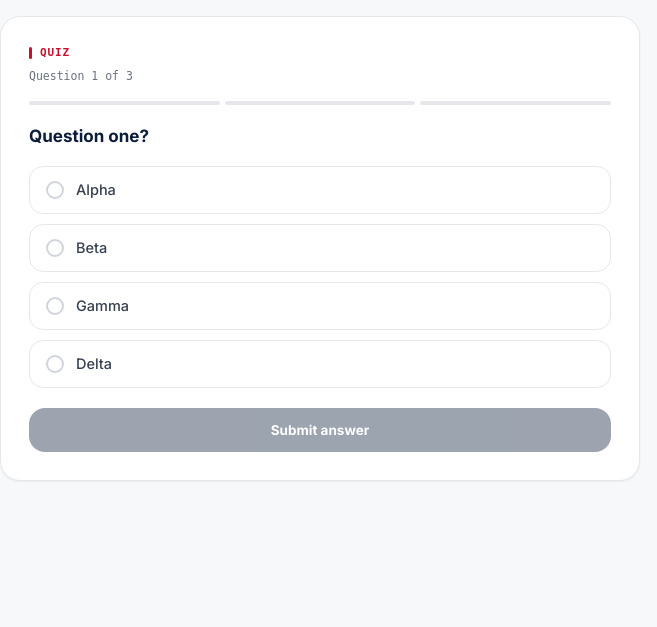
it: QuizWidget server-graded mode (t_79a92b83) › renders wrong-answer feedback from the response, not the user's selection
The image size is (657, 627).
Step 1. Click the radio button labelled "Beta" → (92, 248), box [29,224,611,272]
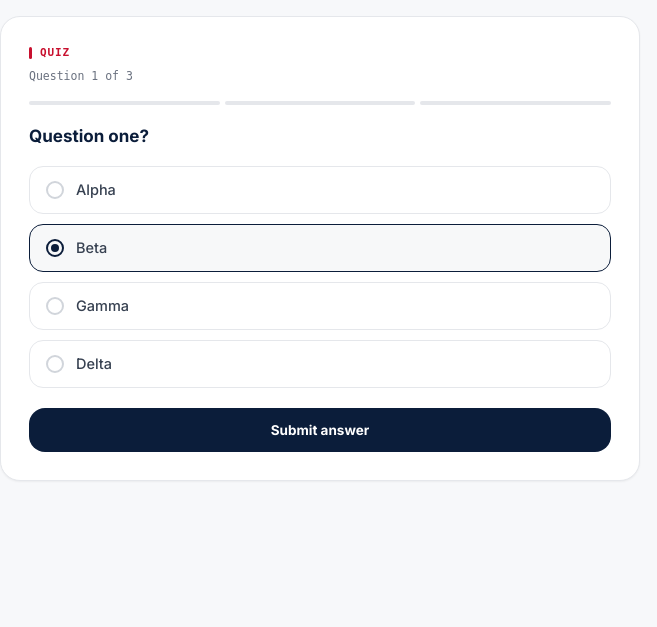
Step 2. Click the button "Submit answer" → (320, 430), box [29,408,611,452]
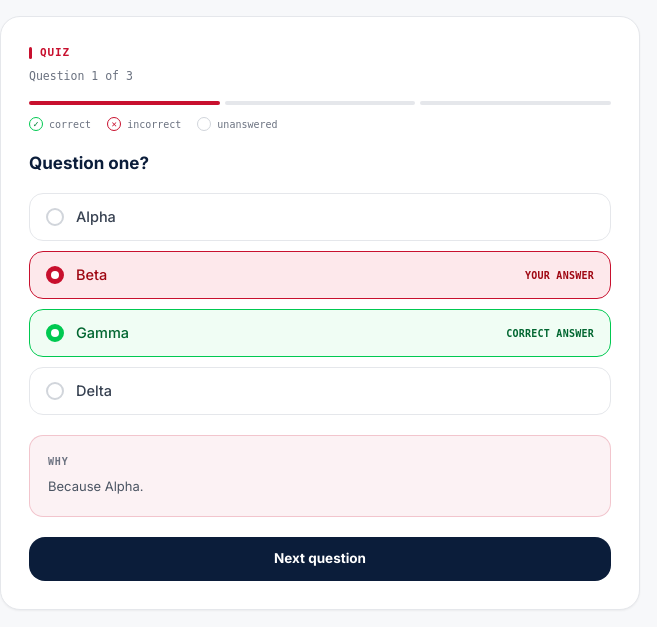
Result: the text "Because Alpha." is shown at [48,478,144,494]
Result: the radio button labelled "Gamma Correct answer" is shown at [29,309,611,357]
Result: the radio button labelled "Beta Your answer" is shown at [29,251,611,299]
